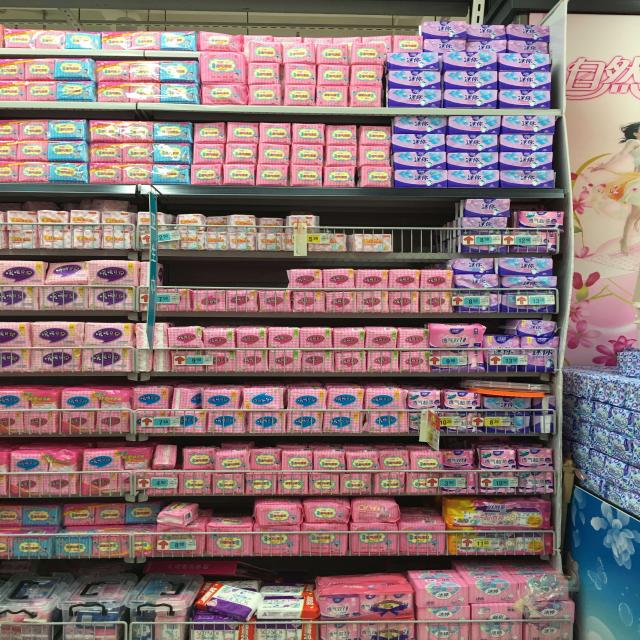void: (423, 202, 454, 271), (395, 204, 417, 268)
